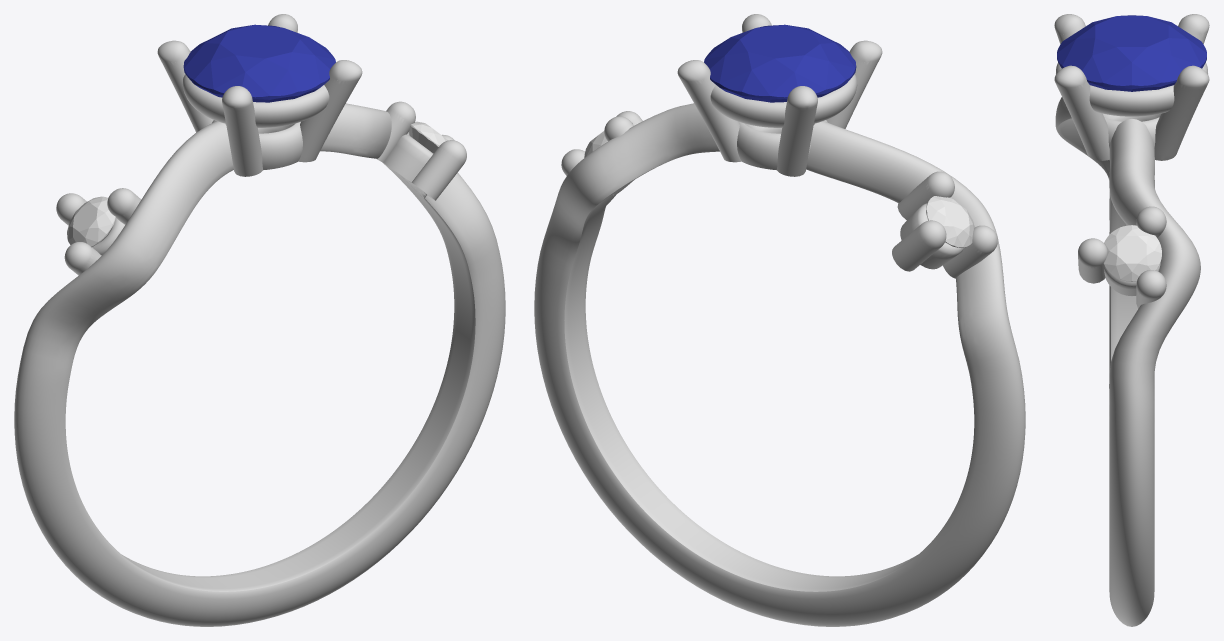
File: GarrettPTeng.glb
3 renders of one model, left to right at view 1: azimuth 30°, elevation 25°; view 2: azimuth 150°, elevation 25°; view 3: azimuth 270°, elevation 25°, orthographic.
Visible parts, largest first — view 1: Garrett PT for 3d model, Garrett alexandrite for 3d model, Garrett dia for 3d model, Garrett dia for 3d model.001; view 2: Garrett PT for 3d model, Garrett alexandrite for 3d model, Garrett dia for 3d model; view 3: Garrett PT for 3d model, Garrett alexandrite for 3d model, Garrett dia for 3d model.001.
Part boxes in pixels (<box>): Garrett PT for 3d model: <box>14,14,505,626</box>; Garrett alexandrite for 3d model: <box>183,24,335,102</box>; Garrett dia for 3d model: <box>67,196,115,247</box>; Garrett dia for 3d model.001: <box>408,121,447,153</box>; Garrett PT for 3d model: <box>534,14,1025,626</box>; Garrett alexandrite for 3d model: <box>704,24,856,102</box>; Garrett dia for 3d model: <box>926,196,974,247</box>; Garrett PT for 3d model: <box>1054,14,1209,626</box>; Garrett alexandrite for 3d model: <box>1057,15,1206,91</box>; Garrett dia for 3d model.001: <box>1103,225,1161,281</box>.
Size of the model in its own units: 18.48 by 20.9 by 5.16.
